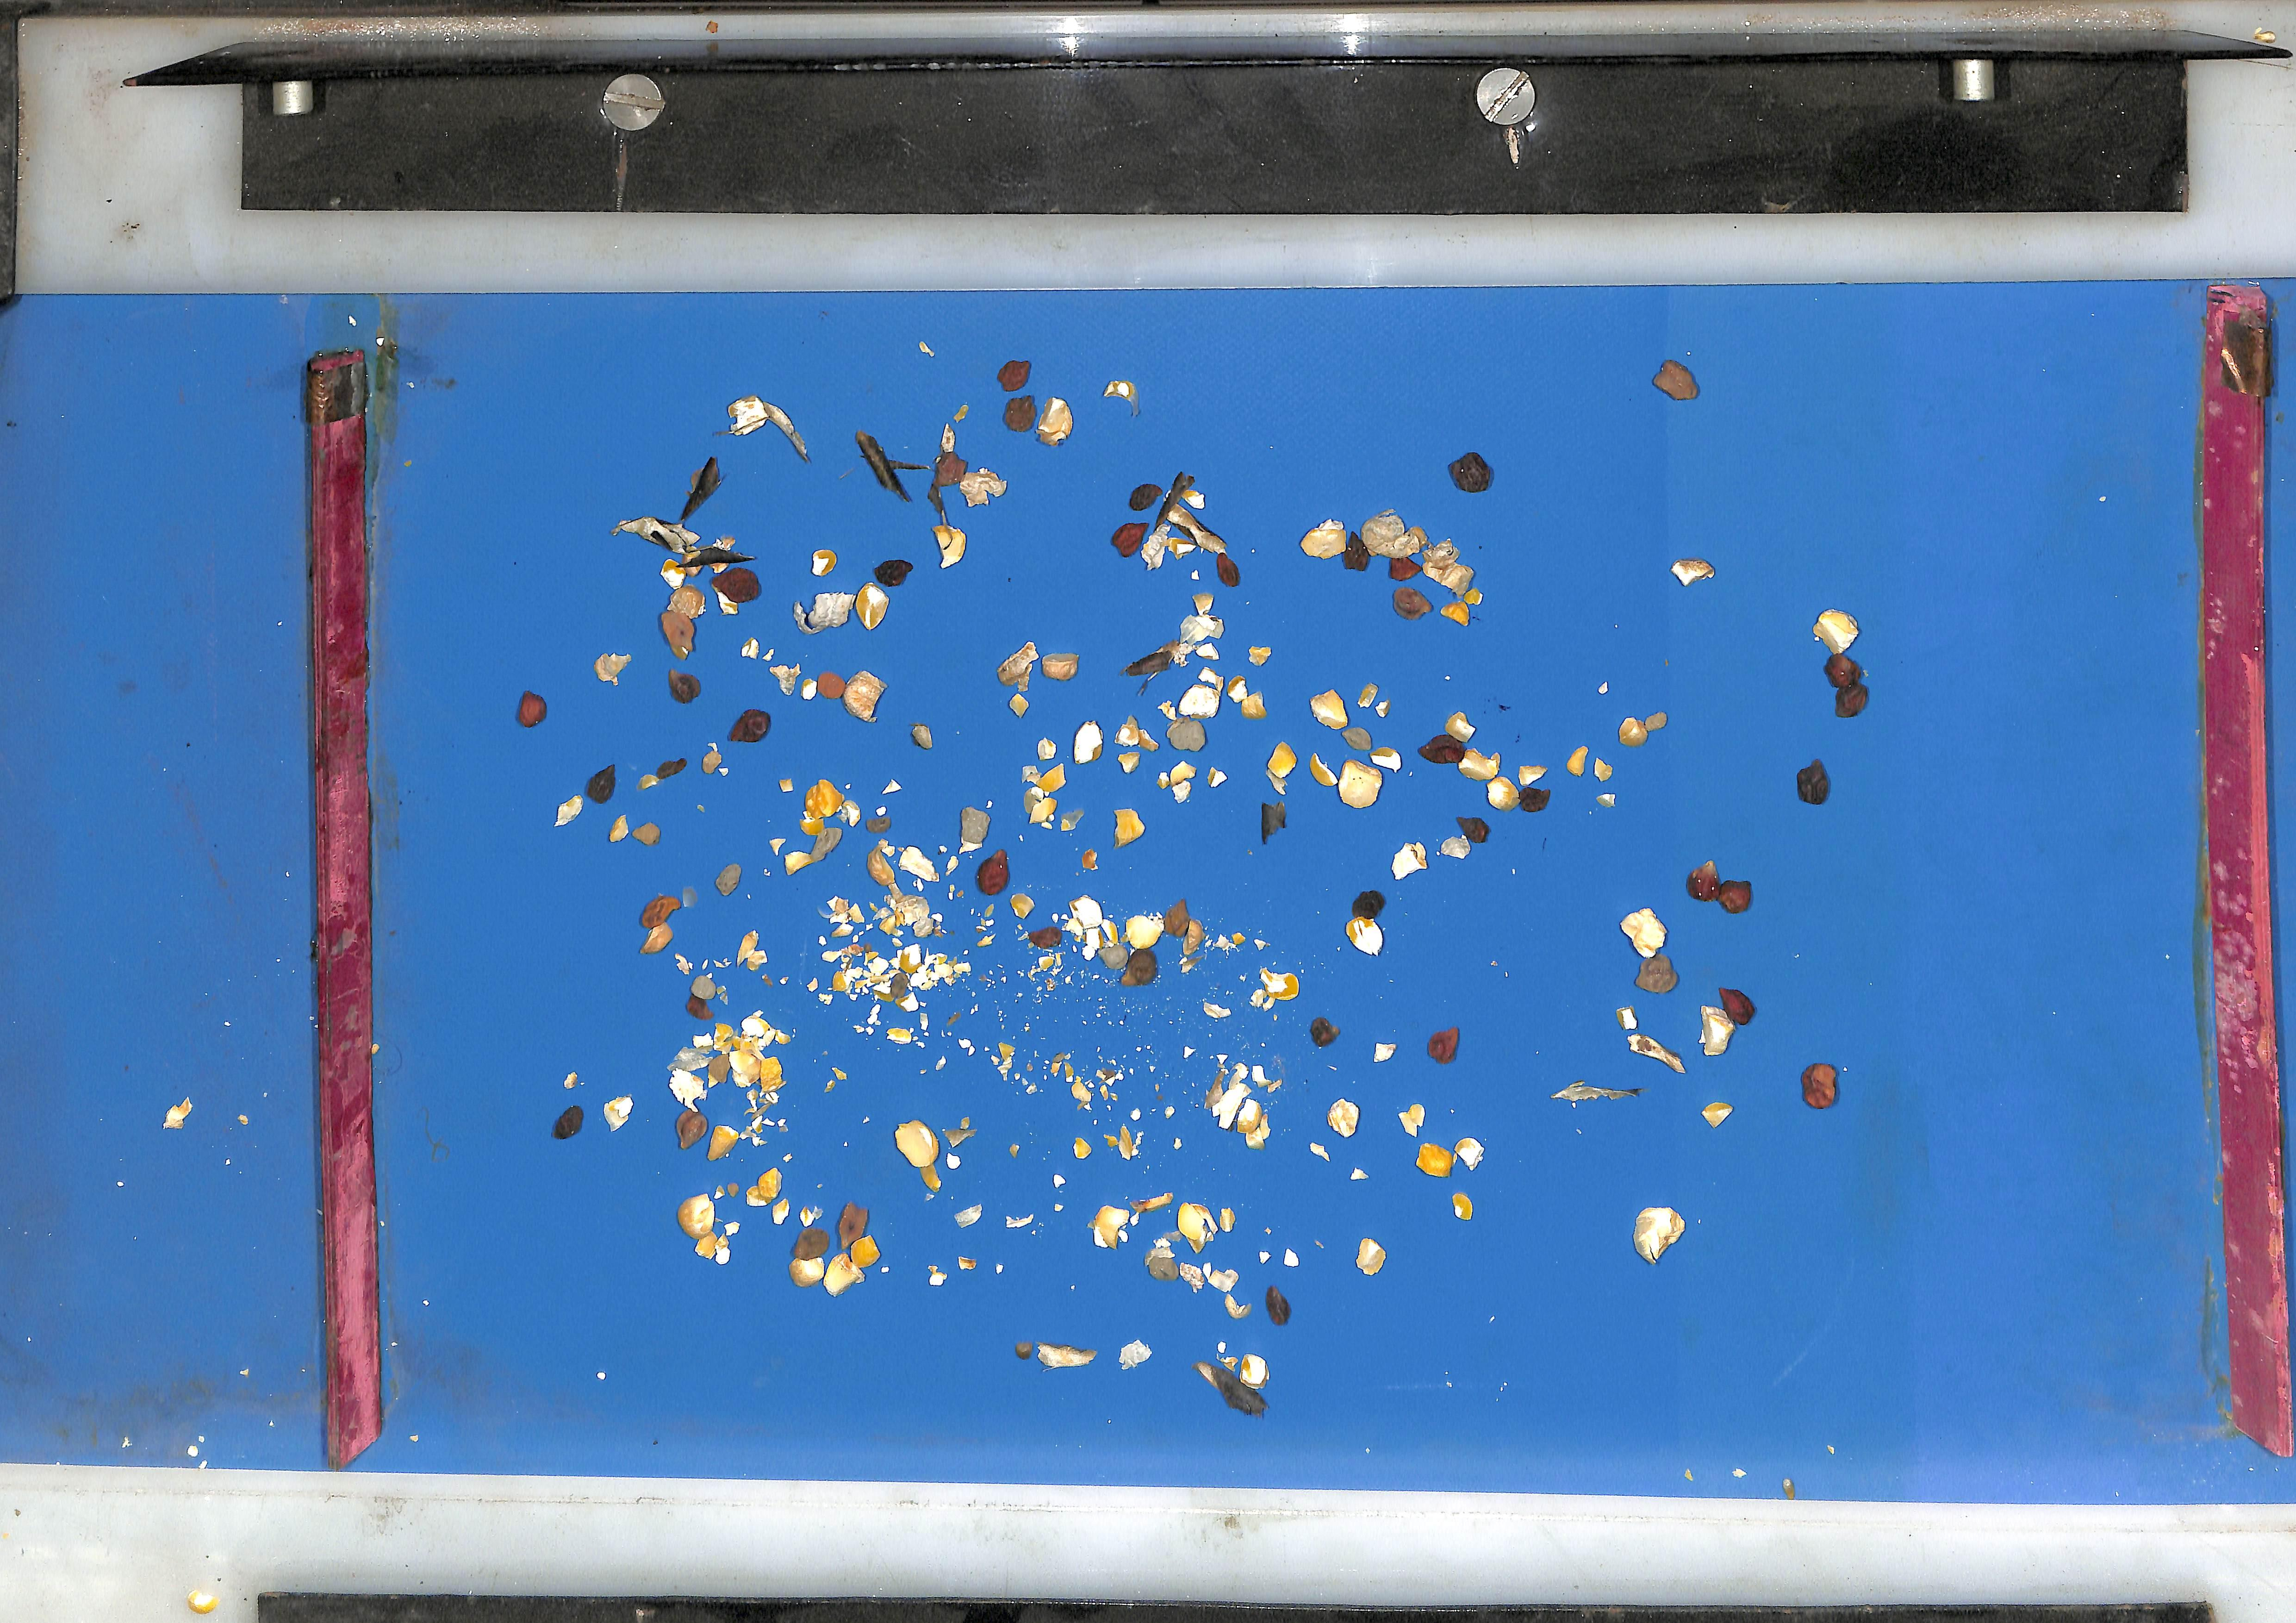fm: (800, 813, 1168, 1074), (1114, 590, 1288, 802), (1307, 680, 1550, 813), (608, 454, 760, 655), (853, 402, 1008, 568), (1300, 509, 1483, 642), (666, 1011, 789, 1161), (1112, 472, 1244, 588), (1145, 1204, 1252, 1321), (790, 556, 912, 632), (787, 1203, 879, 1297), (996, 357, 1074, 447), (715, 392, 812, 460), (1205, 1060, 1282, 1147), (1817, 608, 1873, 717), (877, 721, 961, 791), (998, 642, 1078, 714), (1021, 736, 1081, 828), (1194, 1347, 1271, 1418), (1113, 500, 1212, 556), (1254, 734, 1303, 845), (1622, 907, 1680, 994), (675, 1194, 742, 1267), (1621, 1007, 1687, 1074), (798, 778, 859, 848), (1702, 987, 1759, 1057), (553, 766, 614, 825), (894, 1120, 942, 1192), (1413, 1137, 1486, 1183), (1691, 862, 1755, 914), (1164, 899, 1208, 973), (1636, 1208, 1688, 1265), (1344, 888, 1388, 955), (1436, 810, 1493, 857), (638, 896, 684, 955), (740, 1169, 788, 1223), (833, 672, 880, 721), (1555, 1080, 1642, 1107), (757, 648, 800, 693), (1654, 357, 1702, 398), (1251, 970, 1300, 1011), (1391, 830, 1429, 878), (1620, 710, 1669, 746), (635, 755, 686, 790), (1804, 1063, 1841, 1108), (684, 973, 719, 1019), (607, 813, 660, 843), (1036, 1344, 1096, 1370), (1799, 758, 1833, 804), (726, 708, 770, 743), (769, 837, 810, 874), (1104, 1124, 1145, 1159), (976, 849, 1008, 893), (959, 807, 989, 852), (1328, 1100, 1361, 1142), (1674, 556, 1718, 585), (1457, 451, 1492, 488), (1073, 720, 1102, 762), (515, 689, 546, 728), (733, 932, 766, 968), (1114, 808, 1144, 848), (592, 652, 629, 683), (1093, 1207, 1122, 1246), (942, 1117, 976, 1149), (1128, 481, 1166, 510), (698, 743, 731, 776), (551, 1106, 582, 1141), (807, 545, 837, 580), (601, 1097, 630, 1131), (1357, 1240, 1386, 1274), (1103, 378, 1136, 408), (1400, 1104, 1426, 1139), (1267, 1287, 1290, 1326), (666, 669, 697, 697), (1705, 1101, 1736, 1128), (1121, 1347, 1148, 1370), (954, 1206, 982, 1229), (1313, 1021, 1338, 1046), (1070, 1080, 1090, 1109), (1452, 1194, 1474, 1220), (1140, 1195, 1172, 1212), (718, 863, 735, 892), (1569, 747, 1588, 773), (1005, 1215, 1033, 1230), (1073, 1138, 1091, 1159), (1216, 935, 1238, 952), (521, 699, 536, 723), (739, 637, 757, 657), (1205, 1005, 1229, 1018), (1350, 1166, 1370, 1182), (1014, 1344, 1035, 1360), (1598, 759, 1613, 779), (674, 953, 687, 971)
